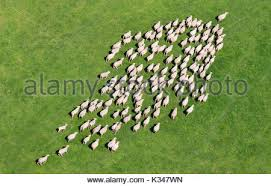sheep: (57, 144, 70, 156), (216, 10, 230, 21), (170, 106, 179, 121), (91, 139, 101, 151), (37, 155, 48, 165), (69, 106, 80, 116), (99, 125, 110, 135), (112, 58, 123, 68), (66, 132, 78, 141), (180, 96, 189, 108), (104, 52, 117, 60), (99, 107, 109, 117), (126, 62, 136, 72), (146, 51, 156, 61), (82, 134, 91, 145), (186, 103, 193, 116), (122, 107, 131, 117), (116, 94, 125, 104), (153, 122, 161, 133), (112, 108, 120, 119), (165, 78, 176, 86), (58, 123, 67, 132), (79, 100, 89, 108), (122, 115, 132, 123), (165, 44, 173, 54), (151, 85, 161, 93), (180, 36, 188, 46), (187, 27, 197, 35), (203, 91, 209, 104), (143, 115, 150, 126), (78, 109, 86, 118), (133, 122, 141, 131), (152, 107, 160, 116), (143, 105, 151, 114), (125, 46, 133, 55), (160, 67, 169, 75), (174, 54, 182, 63), (173, 15, 179, 27), (91, 127, 101, 134), (164, 94, 169, 108), (135, 99, 145, 106), (205, 18, 212, 28), (99, 71, 110, 77), (146, 63, 154, 71), (217, 26, 225, 34), (156, 31, 163, 40), (187, 13, 193, 23), (105, 98, 112, 106), (183, 54, 190, 62), (189, 74, 196, 82), (204, 54, 210, 63), (154, 20, 159, 30), (190, 61, 197, 68), (206, 72, 212, 80), (216, 42, 222, 50), (200, 34, 208, 40), (151, 40, 159, 46), (192, 15, 196, 27), (198, 23, 204, 31), (145, 30, 150, 39), (171, 32, 176, 41), (135, 32, 141, 39)
